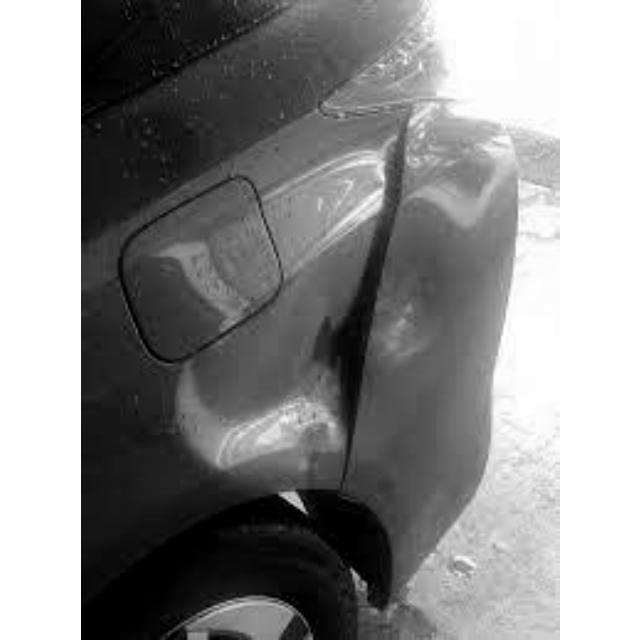quaterpanel-dent: (80, 119, 364, 637)
rear-bumper-dent: (364, 67, 522, 613)
